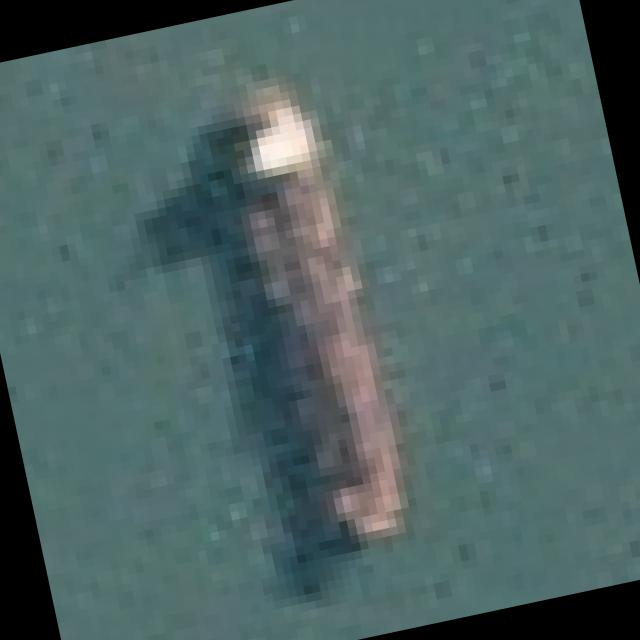ship: (102, 29, 499, 610)
